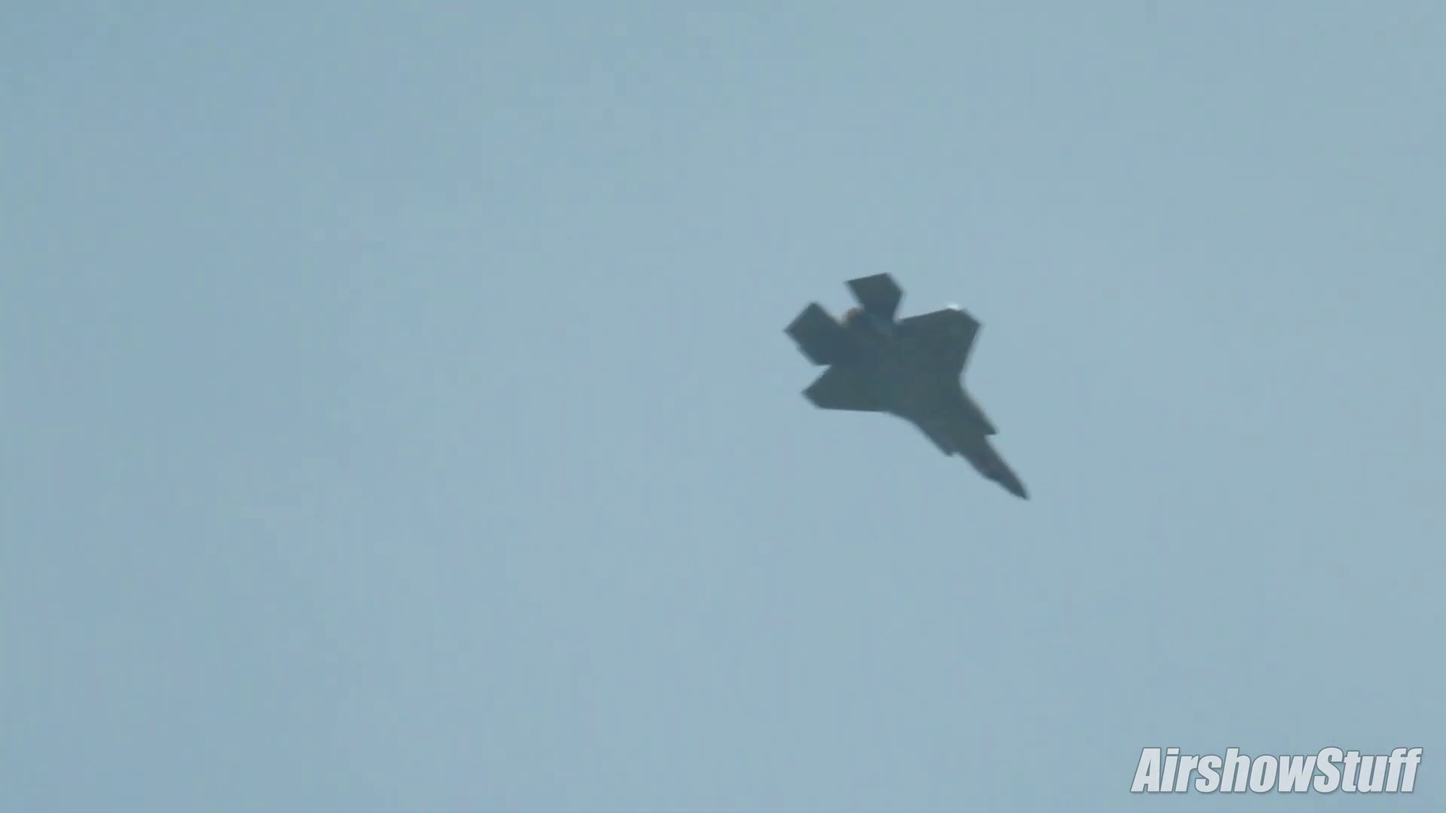F35: (779, 268, 1036, 512)
